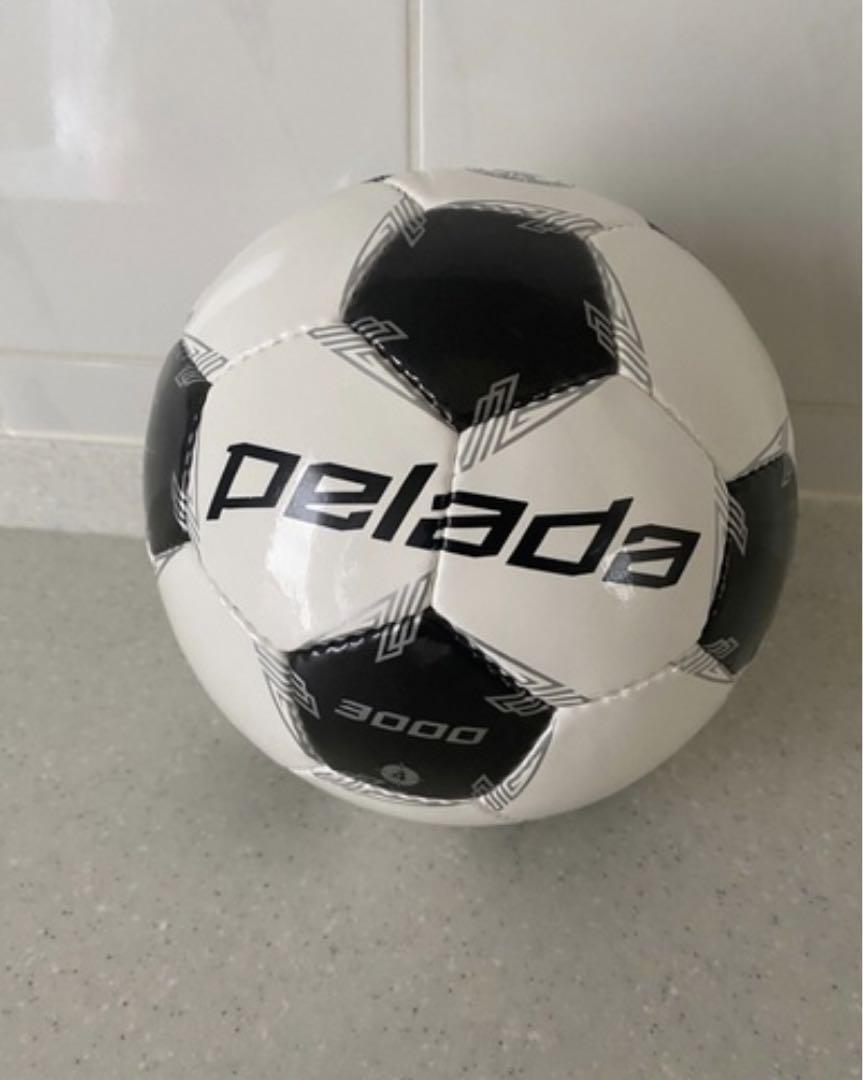Sports-Ball: (140, 172, 804, 836)
